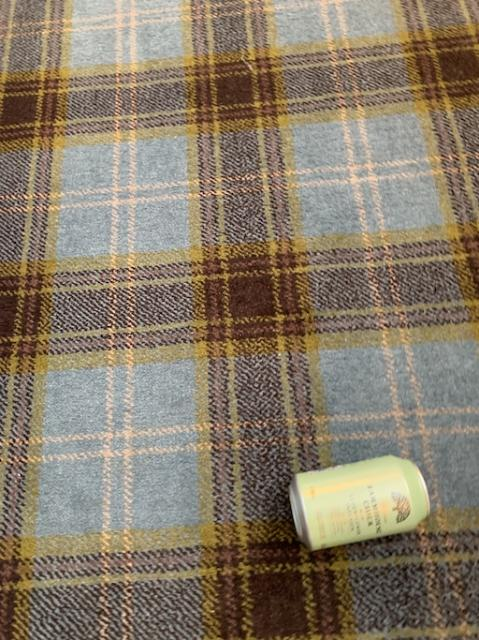metal: (290, 454, 429, 549)
